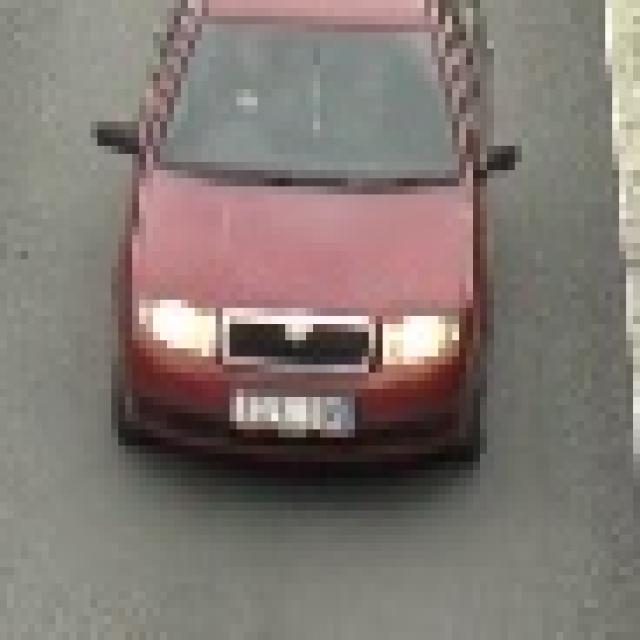maroon: (107, 0, 497, 472)
